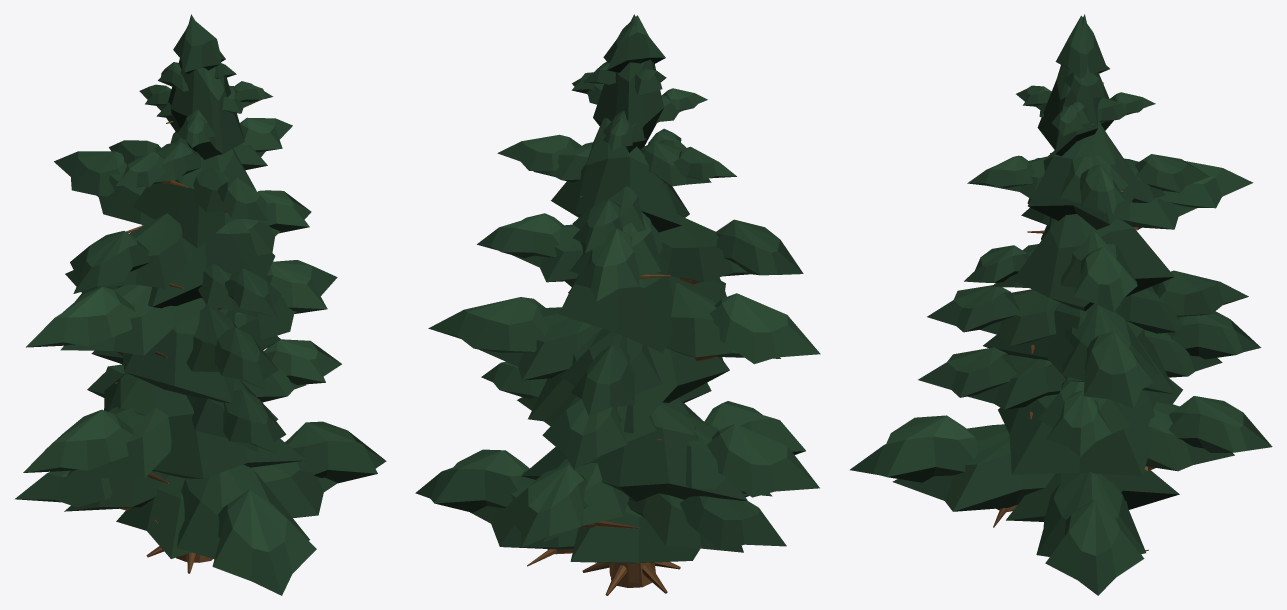
File: pine-04.glb
The picture shows the model from 3 angles, left to right: view 1: azimuth 30°, elevation 25°; view 2: azimuth 150°, elevation 25°; view 3: azimuth 270°, elevation 25°; orthographic projection. The views are drawn at different scales.
Parts seen in each view (by area): view 1: pine-04; view 2: pine-04; view 3: pine-04.
Boxes of the visible parts, bbox=[...] form: pine-04: bbox=[15, 14, 386, 595]; pine-04: bbox=[415, 14, 820, 595]; pine-04: bbox=[850, 14, 1272, 595].
Size of the model in its own units: 5.81 by 8 by 5.86.
